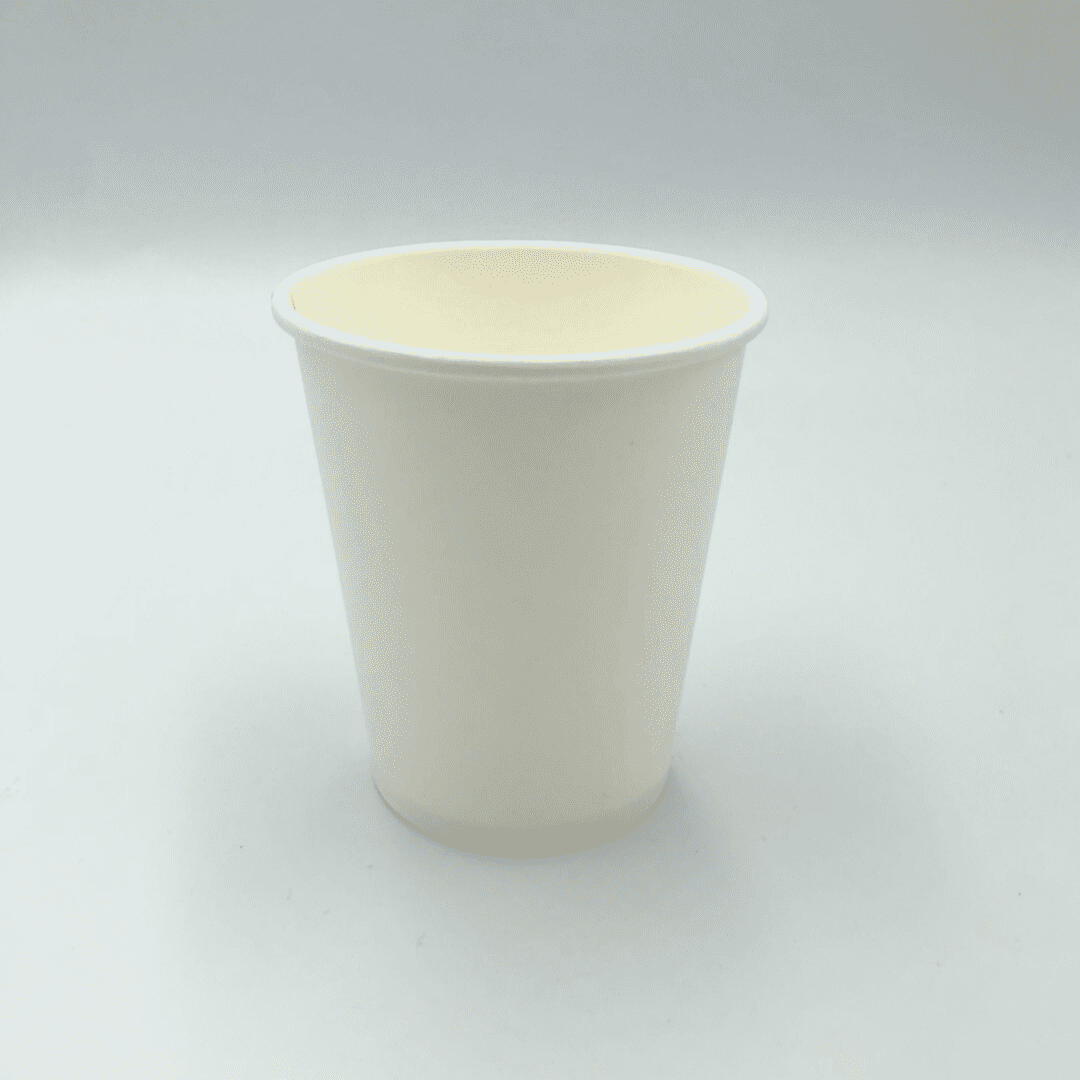PaperCup: (267, 239, 779, 863)
